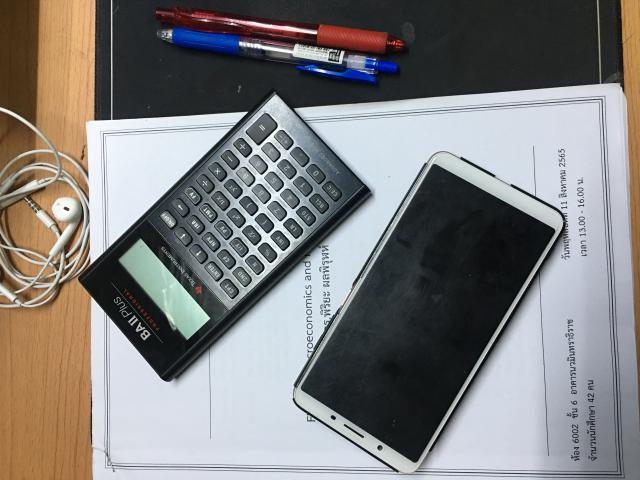Mobile phone: (294, 151, 565, 472)
Pen: (155, 10, 407, 82)
paper: (87, 84, 640, 479)
wire: (0, 108, 89, 308)
